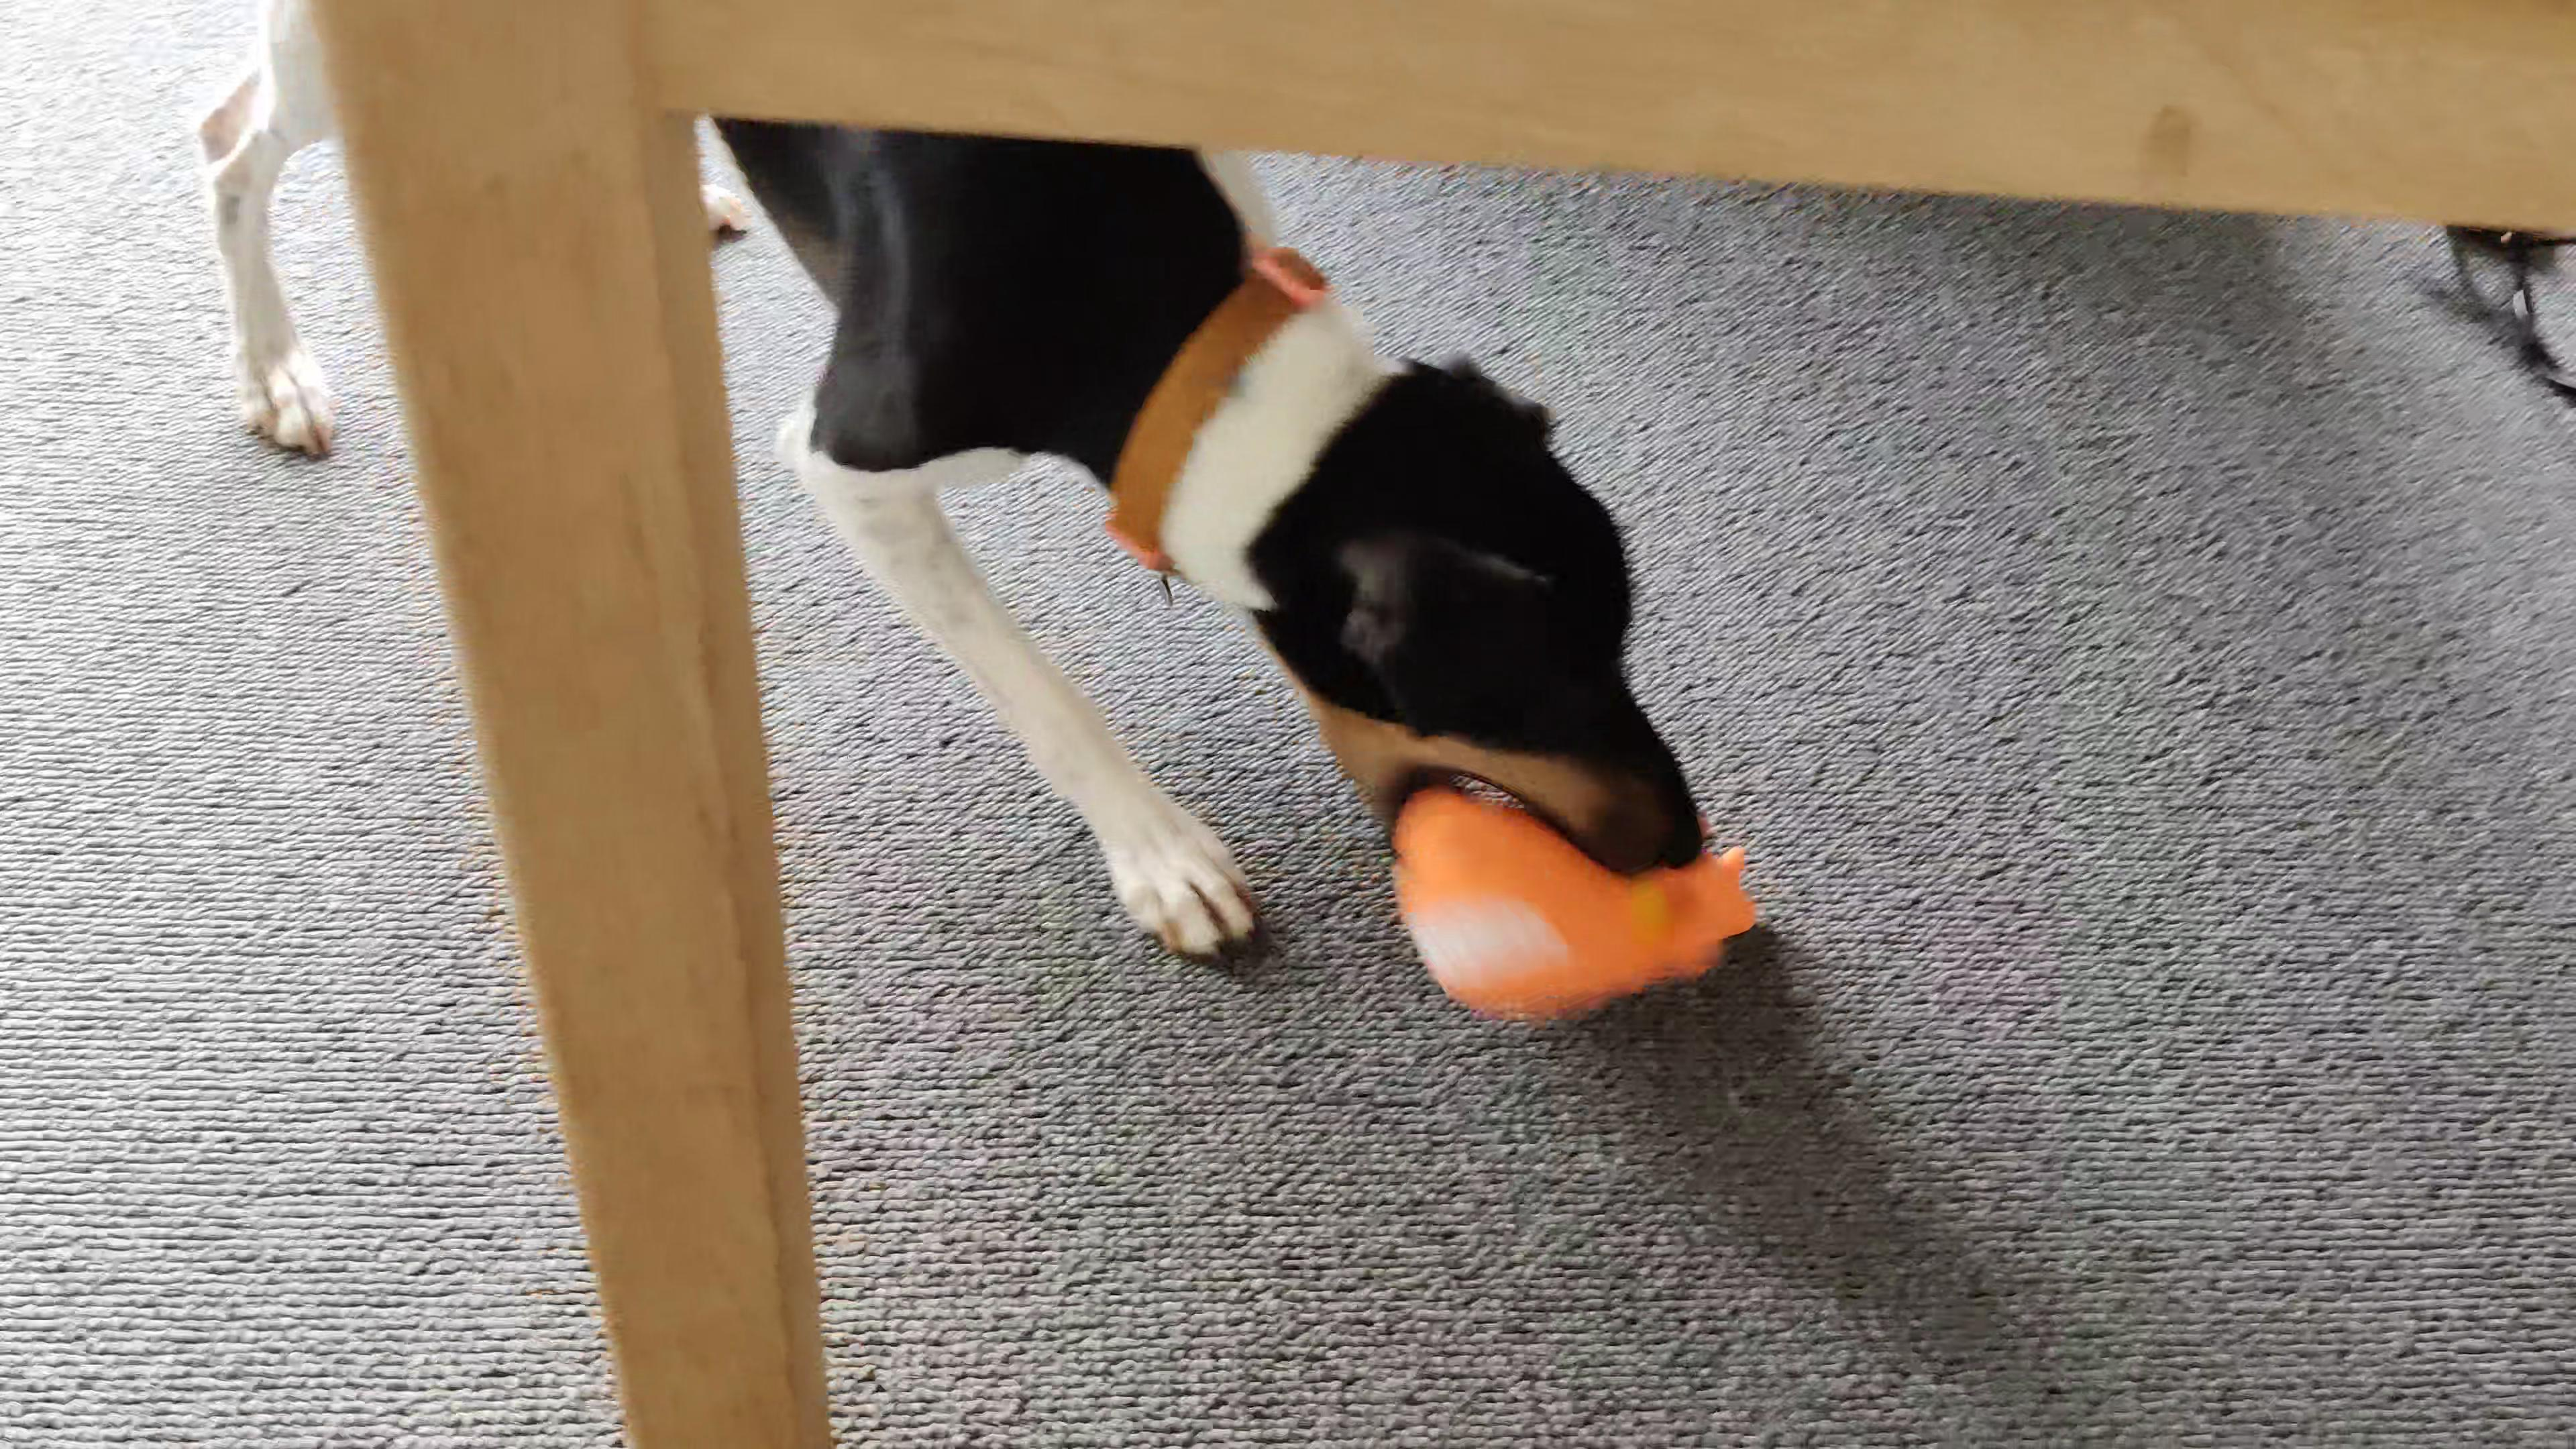Dog: (182, 0, 1713, 975)
